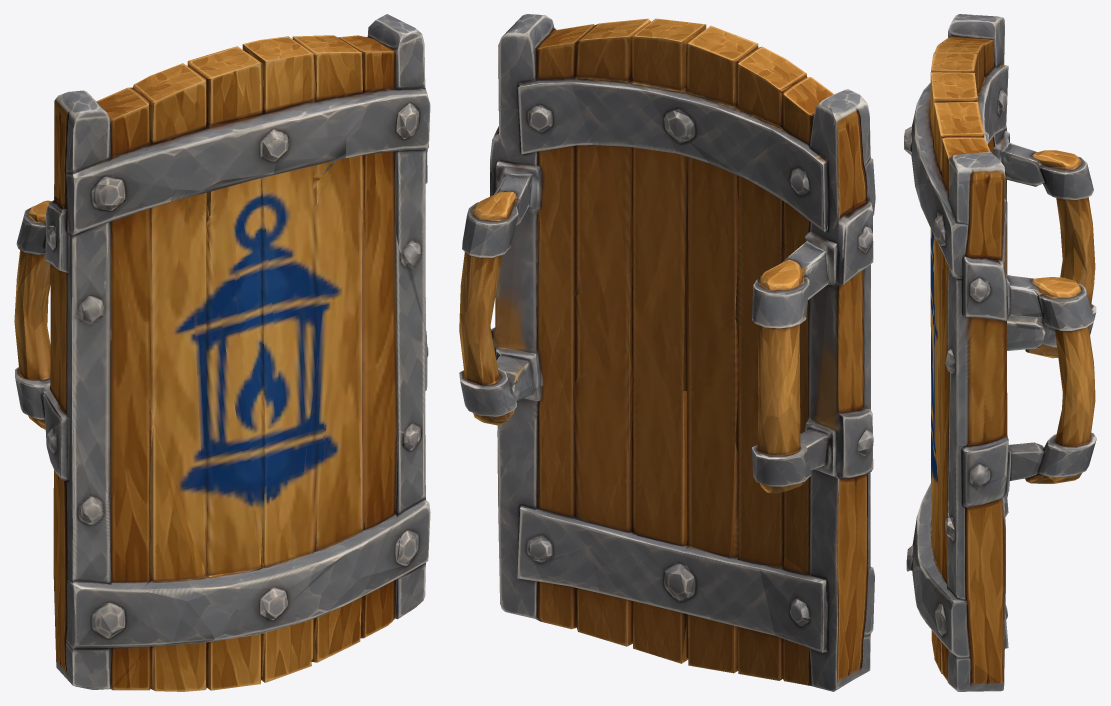
Rendered from warden-shield.hq.glb.
The picture shows the model from 3 angles, left to right: view 1: azimuth 30°, elevation 25°; view 2: azimuth 150°, elevation 25°; view 3: azimuth 270°, elevation 25°; orthographic projection. The views are drawn at different scales.
Visible parts, largest first — view 1: output_unwrapped; view 2: output_unwrapped; view 3: output_unwrapped.
Boxes of the visible parts, left/top/right/bottom form: output_unwrapped: left=14, top=14, right=430, bottom=691; output_unwrapped: left=459, top=14, right=875, bottom=691; output_unwrapped: left=904, top=14, right=1096, bottom=691.
Size of the model in its own units: 1.21 by 1.9 by 0.5832.
Materials: 1 (1 with a texture image).
